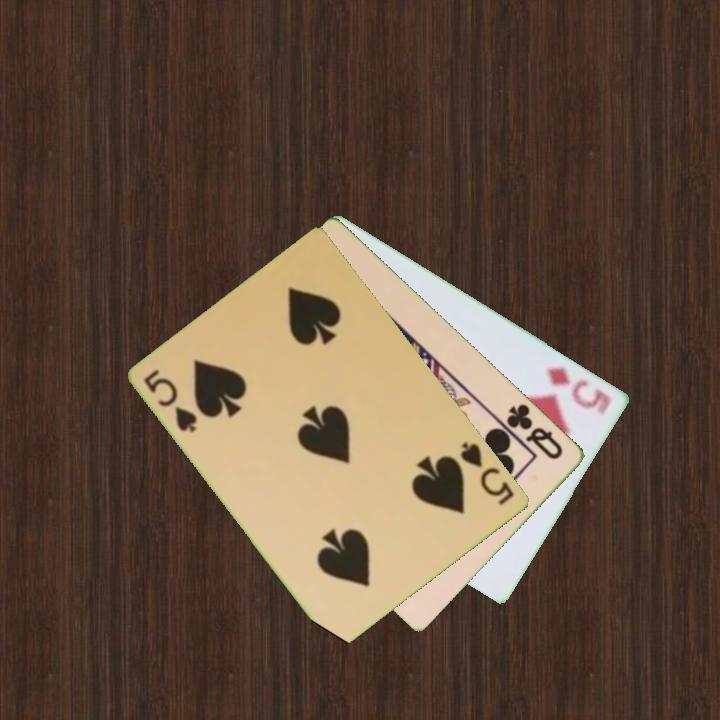5d: (544, 363, 615, 417)
5s: (140, 365, 201, 436), (457, 438, 518, 508)
Qc: (503, 400, 567, 463)
